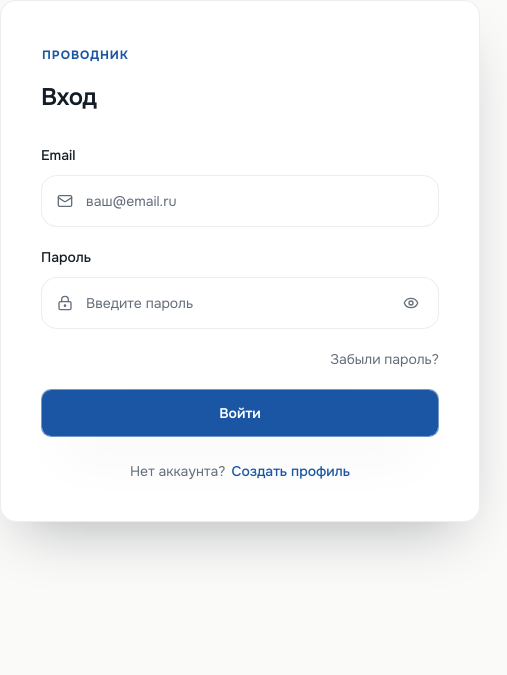
Test case: AuthEntryScreen traveler sign-in › shows an error instead of trusting user_metadata admin when the profile role read fails
This screenshot has width=507, height=675.
Step 1. Type "admin@provodnik.app" into the field labelled "Email" → (240, 201), box [41,175,439,227]
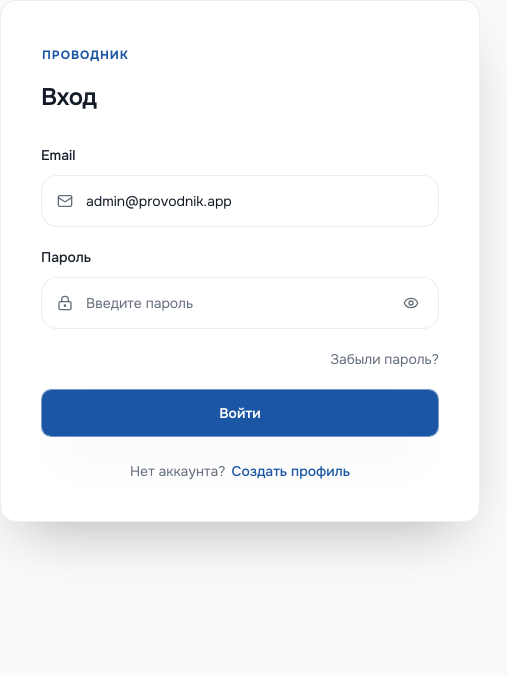
Step 2. Type "Demo1234!" into the password field labelled "Пароль" → (240, 303), box [41,277,439,329]
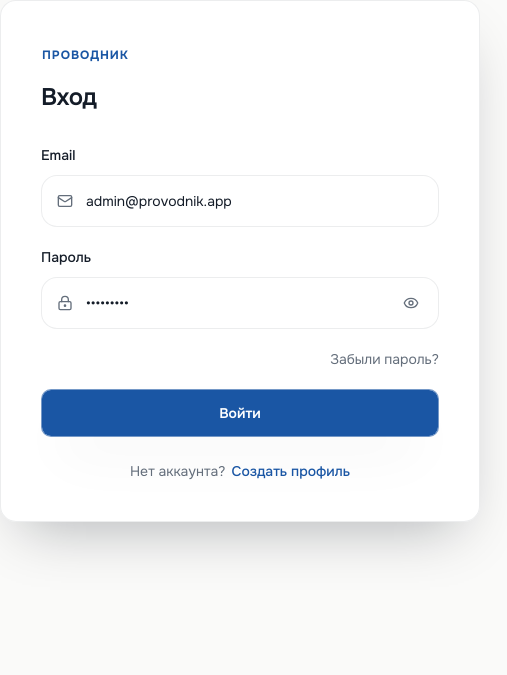
Step 3. Click the button "Войти" → (240, 413), box [41,389,439,437]
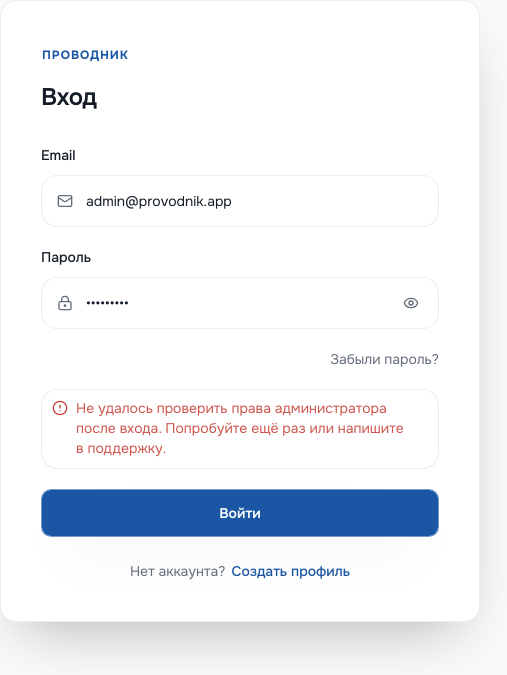
Result: the text "Не удалось проверить права администратора после входа" is shown at [76,399,404,457]
